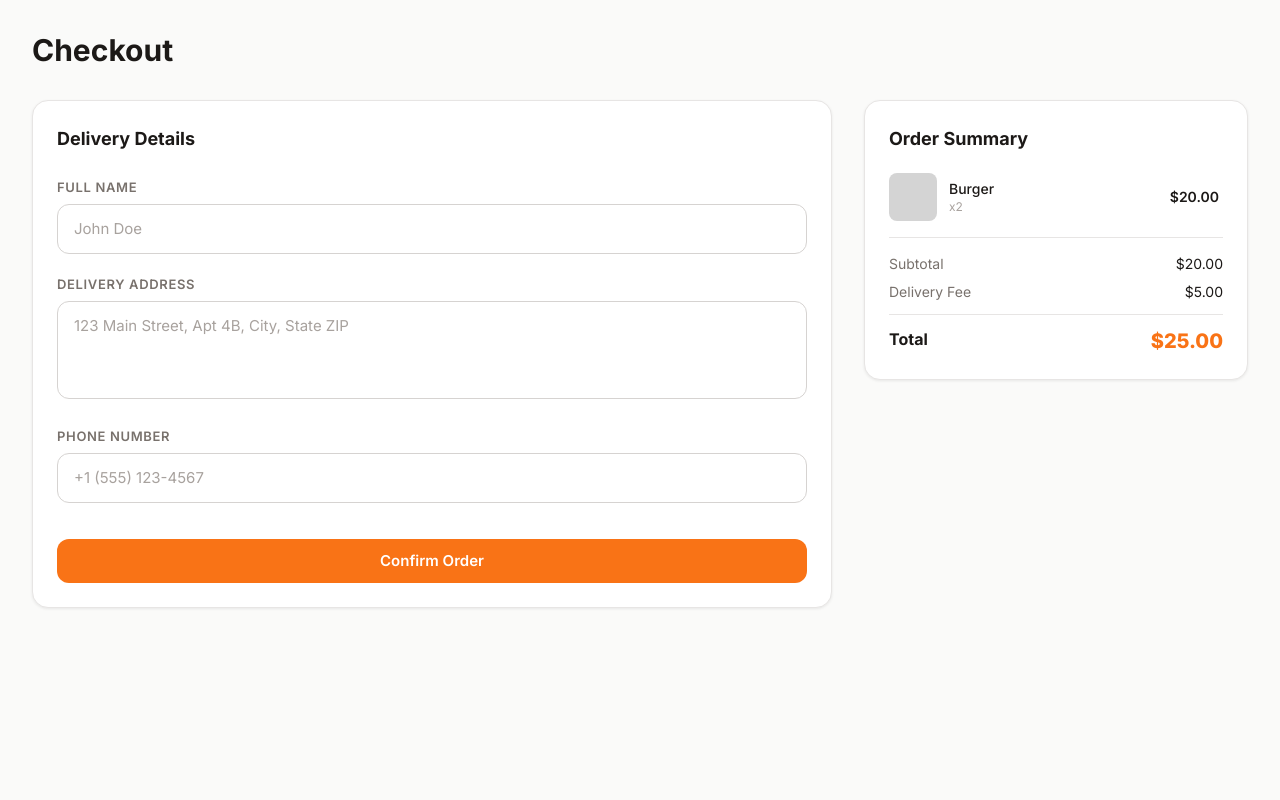
Test: CheckoutPage › validates required fields on submit
Step 1. Click the button "Confirm Order" → (432, 561), box 57,539 -> 807,583
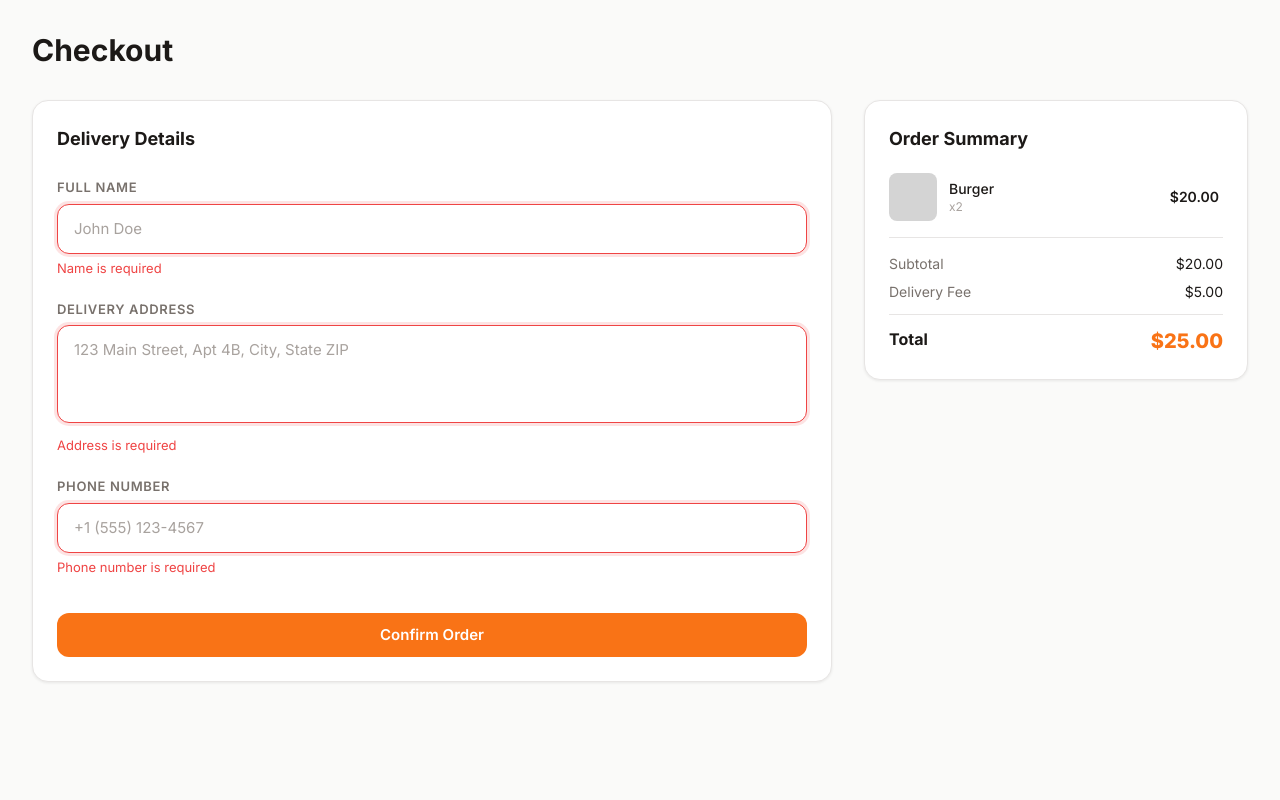
Check: the text "Name is required" is shown, box 57,260 -> 162,276
Check: the text "Address is required" is shown, box 57,437 -> 176,453
Check: the text "Phone number is required" is shown, box 57,559 -> 216,575
